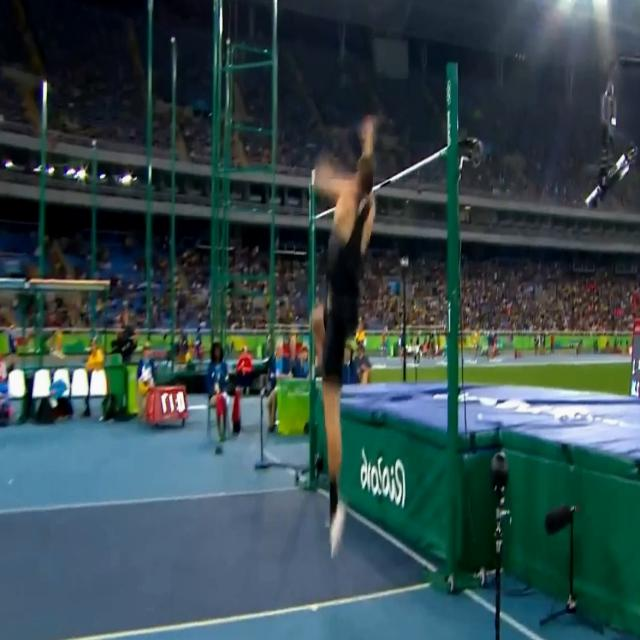jump: (308, 110, 377, 564)
